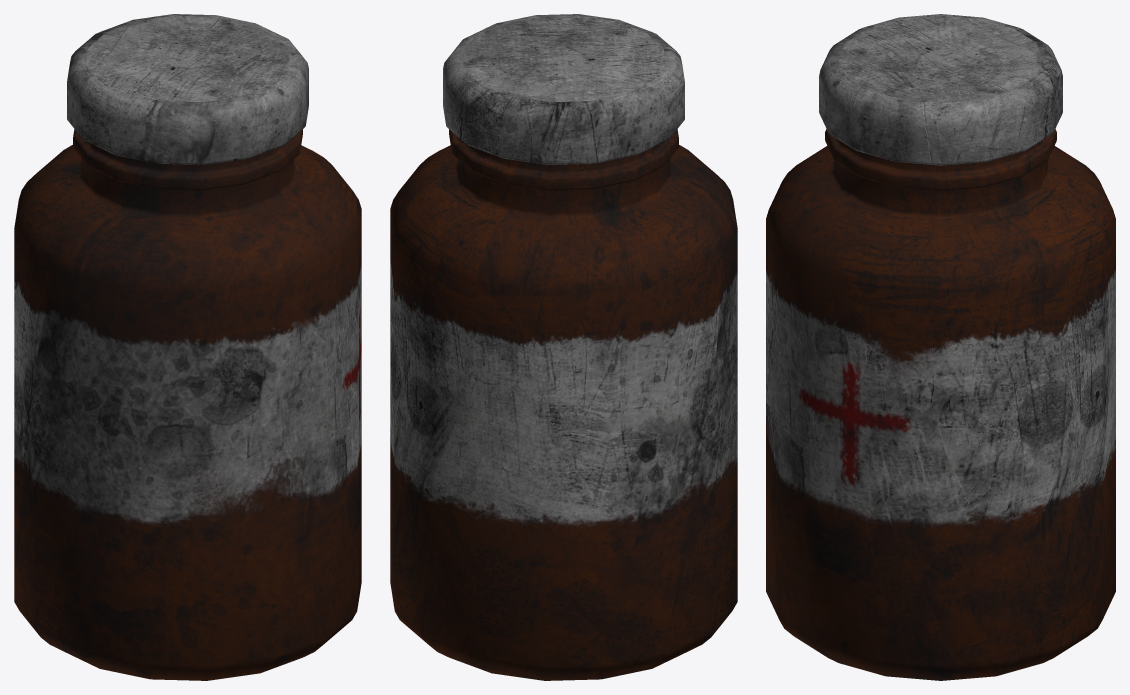
The model's file is PillsBottle.obj.
The picture shows the model from 3 angles, left to right: view 1: azimuth 30°, elevation 25°; view 2: azimuth 150°, elevation 25°; view 3: azimuth 270°, elevation 25°; orthographic projection.
Visible parts, largest first — view 1: pills_bottle1; view 2: pills_bottle1; view 3: pills_bottle1.
Boxes of the visible parts, x1,y1,x2,y2 form: pills_bottle1: (14,14,361,680); pills_bottle1: (390,14,737,680); pills_bottle1: (766,14,1115,680).
Size of the model in its own units: 6.8 by 12.22 by 6.8.
Materials: 1 (1 with a texture image).
